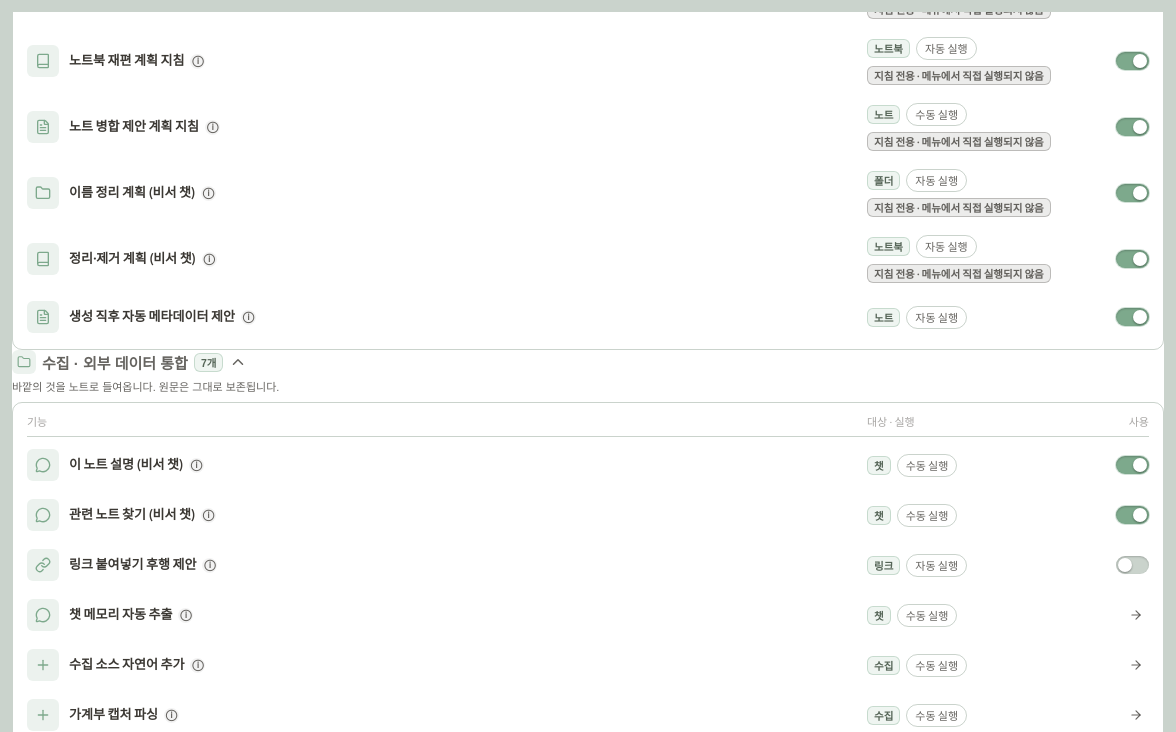
it: Challenger M4: AiCapabilityCatalog Empirical Adversarial Challenge › 3. Accordion Cards Collapse / Expand Stress Test › 3.3 expanding a collapsed tier restores display: flex and aria-expanded: true
(page scrolled)
What coordinates should you click on to do the following:
click the button with test id "ai-capability-tier-header-gather"
I would click on:
 (115, 363)
Its box is x1=12 y1=350 x2=1164 y2=394.
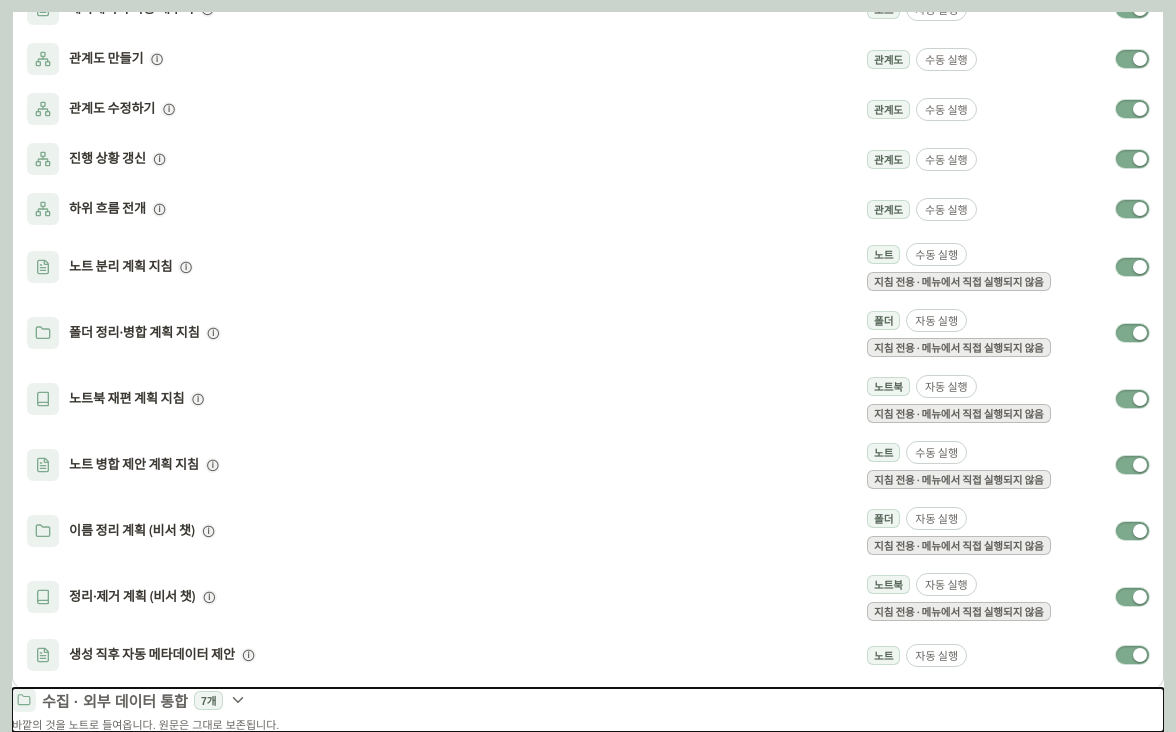
Now the button with test id "ai-capability-tier-header-gather" is collapsed
What coordinates should you click on to do the following:
click the button with test id "ai-capability-tier-header-gather"
I would click on:
 (115, 701)
Its box is x1=12 y1=688 x2=1164 y2=731.
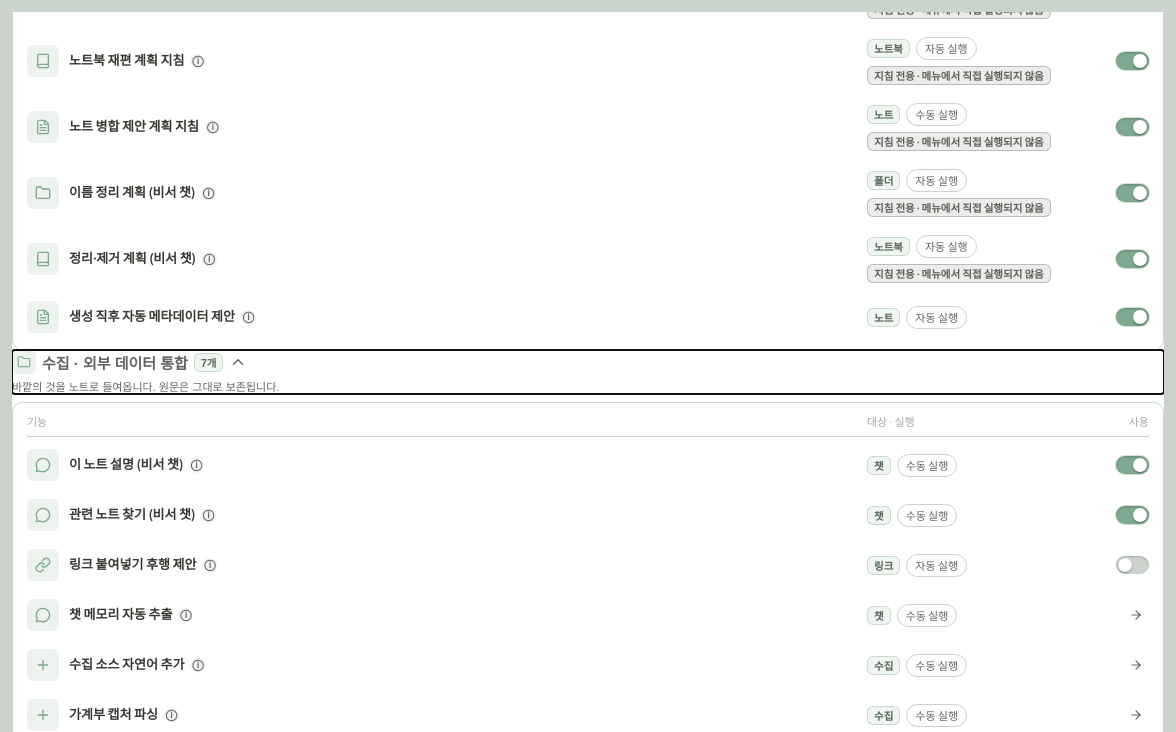
Now the button with test id "ai-capability-tier-header-gather" is expanded, box x1=12 y1=350 x2=1164 y2=394
